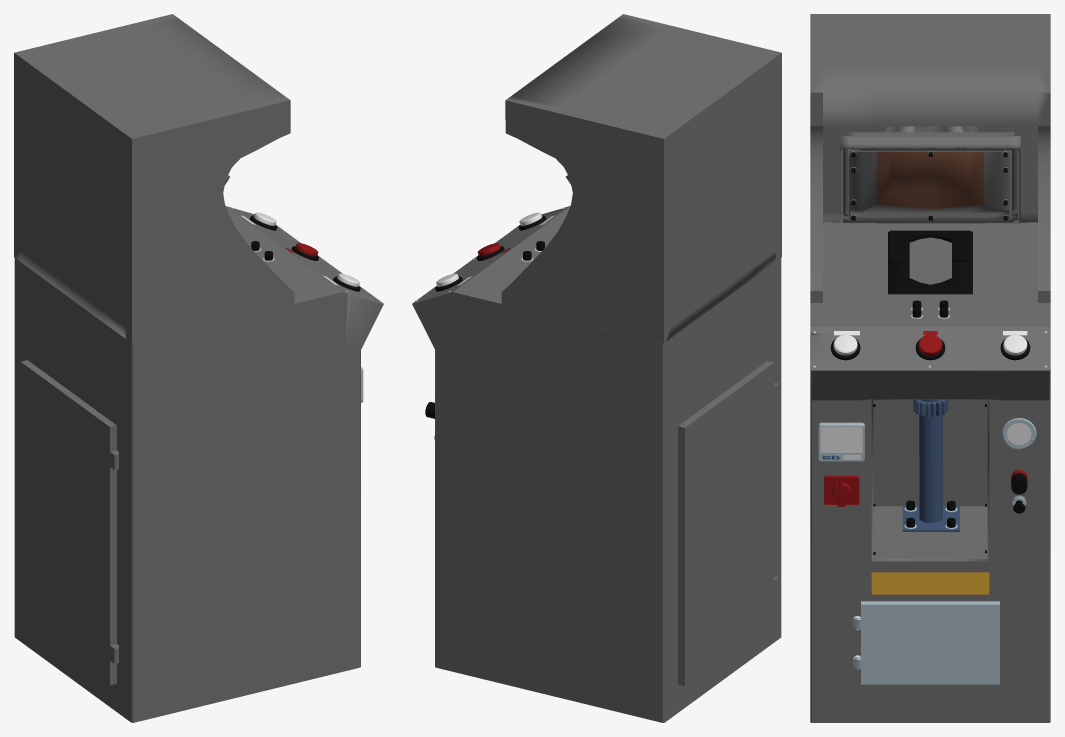
The model's file is Pegadora-Zapato.fbx.
3 renders of one model, left to right at view 1: azimuth 30°, elevation 25°; view 2: azimuth 150°, elevation 25°; view 3: azimuth 270°, elevation 25°, orthographic.
Parts seen in each view (by area): view 1: Cube.001, Cube.002, Cube.012, Cylinder.001; view 2: Cube.001, Cube.002, Cube.012, Cylinder.001; view 3: Cube.001, Cube.002, Plane.001, Cube.006, Plane, Cube.009, Cylinder.011, Cube.004, Cylinder.001, Cylinder.009, Cube, Cube.003 (+2 smaller).
Part boxes in pixels (bbox=[...]): Cube.001: bbox=[14, 206, 383, 722]; Cube.002: bbox=[14, 14, 294, 343]; Cube.012: bbox=[20, 360, 118, 685]; Cylinder.001: bbox=[250, 212, 360, 291]; Cube.001: bbox=[412, 206, 781, 722]; Cube.002: bbox=[501, 14, 781, 343]; Cube.012: bbox=[678, 361, 778, 685]; Cylinder.001: bbox=[435, 212, 546, 291]; Cube.001: bbox=[810, 222, 1050, 722]; Cube.002: bbox=[810, 14, 1050, 302]; Plane.001: bbox=[840, 126, 1020, 223]; Cube.006: bbox=[853, 601, 999, 684]; Plane: bbox=[823, 227, 1037, 295]; Cube.009: bbox=[888, 230, 972, 294]; Cylinder.011: bbox=[913, 399, 948, 522]; Cube.004: bbox=[818, 422, 864, 461]; Cylinder.001: bbox=[830, 334, 1030, 360]; Cylinder.009: bbox=[1002, 418, 1036, 449]; Cube: bbox=[902, 506, 959, 531]; Cube.003: bbox=[824, 475, 859, 504].
Size of the model in its own units: 59.96 by 129 by 47.2.
